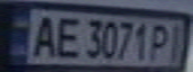0: (100, 17, 121, 60)
1: (130, 20, 151, 60)
3: (81, 16, 106, 60)
7: (118, 18, 136, 61)
A: (24, 12, 60, 60)
E: (51, 12, 84, 60)
I: (166, 21, 193, 62)
P: (148, 20, 175, 61)
